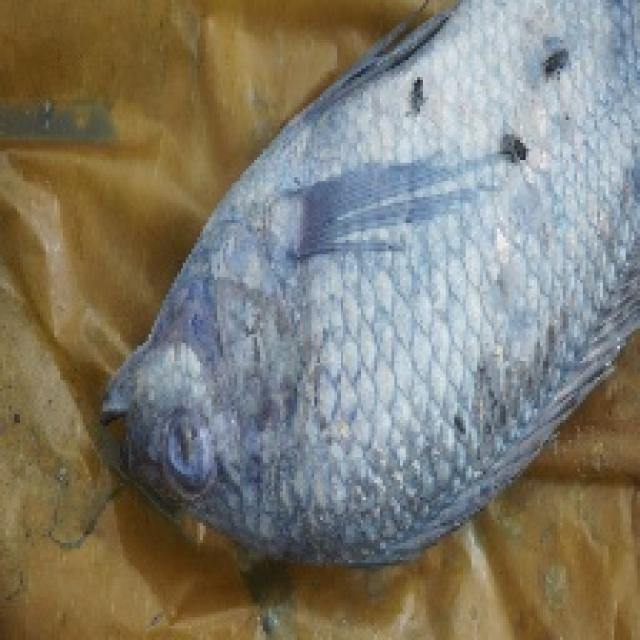Non-Fresh: (90, 75, 622, 587)
